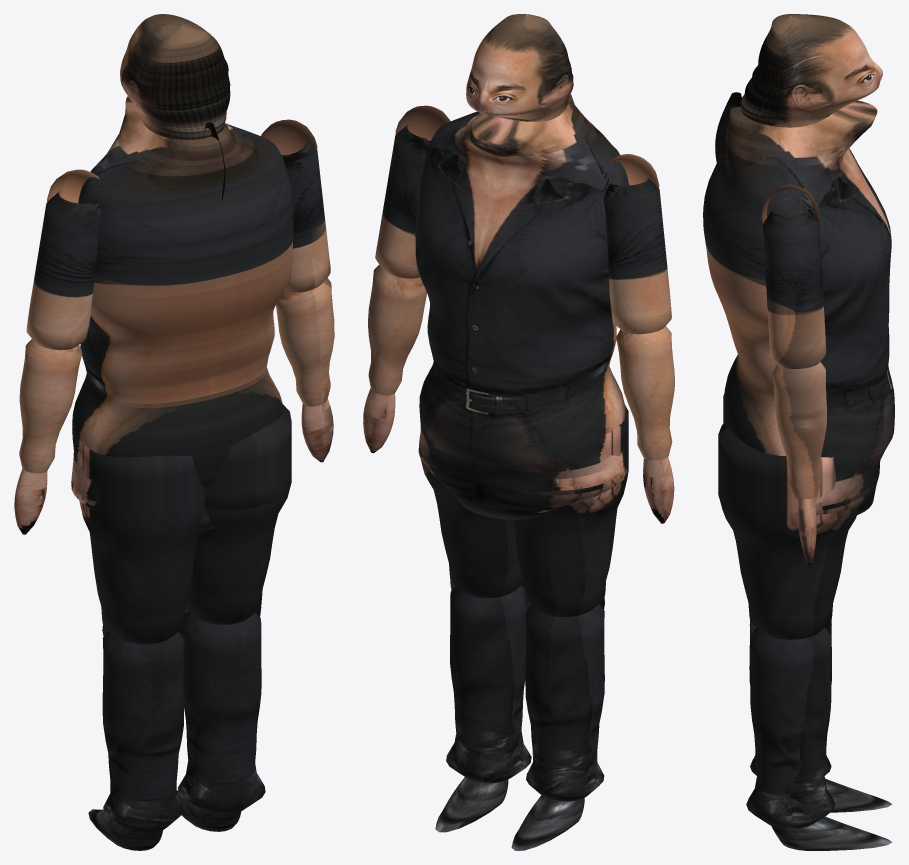
File: mark.glb
3 views of the same model, side by side, from view 1: azimuth 30°, elevation 25°; view 2: azimuth 150°, elevation 25°; view 3: azimuth 270°, elevation 25° (orthographic). The views are drawn at different scales.
Visible parts, largest first — view 1: torso, thigh_l, shin_l, shin_r, thigh_r, skull, upperarm_l, forearm_l, forearm_r, upperarm_r, palm_l, palm_r (+4 smaller); view 2: torso, shin_l, shin_r, thigh_l, skull, upperarm_l, thigh_r, forearm_l, forearm_r, upperarm_r, shoe_l, shoe_r (+4 smaller); view 3: torso, thigh_r, shin_r, skull, upperarm_r, forearm_r, shoe_r, shoe_l, palm_r, ponytail, deltoid_r.
Part boxes in pixels (box(x1,y1,x2,y2)): torso: box(71, 96, 293, 532); thigh_l: box(79, 441, 204, 644); shin_l: box(102, 630, 183, 833); shin_r: box(178, 611, 265, 814); thigh_r: box(185, 404, 291, 624); skull: box(120, 14, 230, 139); upperarm_l: box(26, 191, 102, 350); forearm_l: box(19, 339, 82, 473); forearm_r: box(275, 278, 334, 406); upperarm_r: box(282, 139, 330, 292); palm_l: box(14, 468, 47, 534); palm_r: box(301, 399, 333, 462); torso: box(415, 94, 629, 519); shin_l: box(525, 604, 604, 801); shin_r: box(446, 585, 531, 783); thigh_l: box(513, 405, 628, 616); skull: box(466, 14, 573, 121); upperarm_l: box(603, 178, 671, 334); thigh_r: box(420, 424, 523, 597); forearm_l: box(616, 326, 674, 460); forearm_r: box(368, 264, 427, 395); upperarm_r: box(375, 124, 431, 278); shoe_l: box(511, 795, 584, 850); shoe_r: box(435, 777, 508, 832); torso: box(703, 100, 894, 515); thigh_r: box(718, 422, 858, 639); shin_r: box(746, 627, 835, 829); skull: box(740, 14, 882, 127); upperarm_r: box(763, 208, 826, 368); forearm_r: box(772, 362, 826, 499); shoe_r: box(771, 816, 892, 850); shoe_l: box(825, 778, 892, 812); palm_r: box(797, 498, 816, 564); ponytail: box(715, 92, 742, 172); deltoid_r: box(761, 184, 819, 223).
Size of the model in its own units: 0.7717 by 1.88 by 0.4054.
2 materials, 2 textured.
